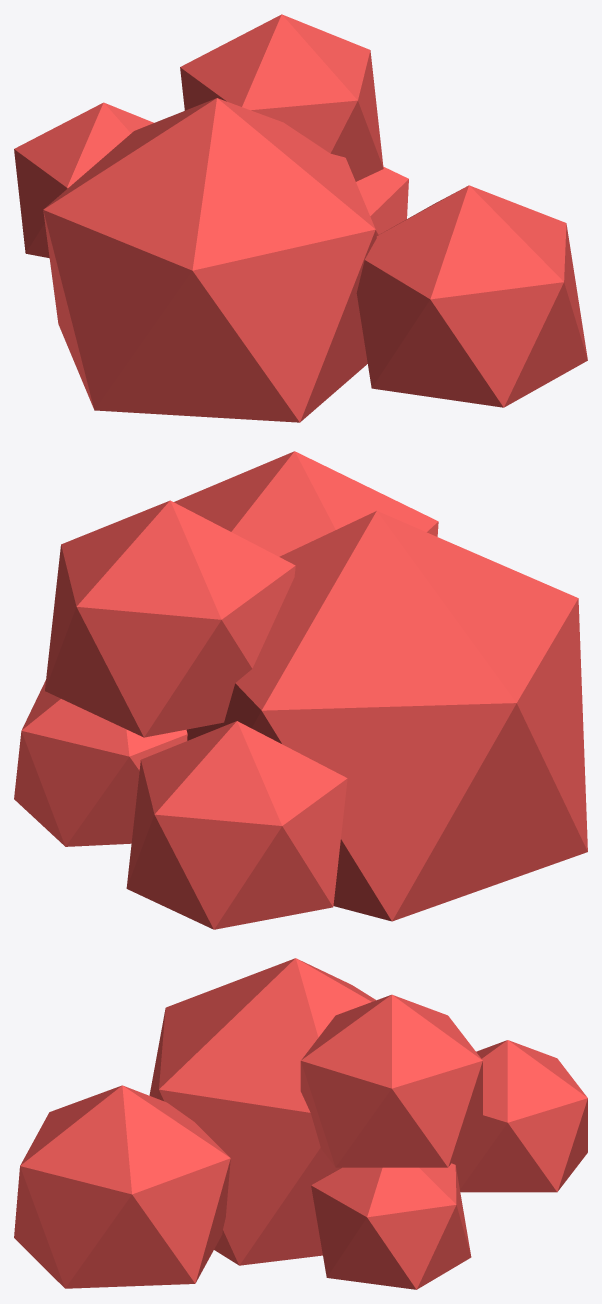
File: Monster_Spider_1.FBX
The picture shows the model from 3 angles, top to bottom: view 1: azimuth 30°, elevation 25°; view 2: azimuth 150°, elevation 25°; view 3: azimuth 270°, elevation 25°; orthographic projection. The views are drawn at different scales.
Parts seen in each view (by area): view 1: GeoSphere001, GeoSphere003, GeoSphere005, GeoSphere002, GeoSphere004; view 2: GeoSphere001, GeoSphere005, GeoSphere002, GeoSphere004, GeoSphere003; view 3: GeoSphere001, GeoSphere003, GeoSphere005, GeoSphere004, GeoSphere002.
Boxes of the visible parts, x1,y1,x2,y2 form: GeoSphere001: (43, 98, 376, 422); GeoSphere003: (356, 185, 587, 407); GeoSphere005: (180, 14, 383, 181); GeoSphere002: (14, 102, 153, 258); GeoSphere004: (356, 166, 408, 235); GeoSphere001: (186, 511, 587, 921); GeoSphere005: (45, 500, 295, 737); GeoSphere002: (126, 721, 347, 929); GeoSphere004: (14, 680, 187, 846); GeoSphere003: (174, 451, 438, 556); GeoSphere001: (149, 958, 375, 1265); GeoSphere003: (14, 1085, 230, 1288); GeoSphere005: (300, 994, 482, 1167); GeoSphere004: (311, 1163, 471, 1289); GeoSphere002: (452, 1040, 587, 1192).
Bounding box in the file's own units: 13.39 × 9.08 × 17.41.
